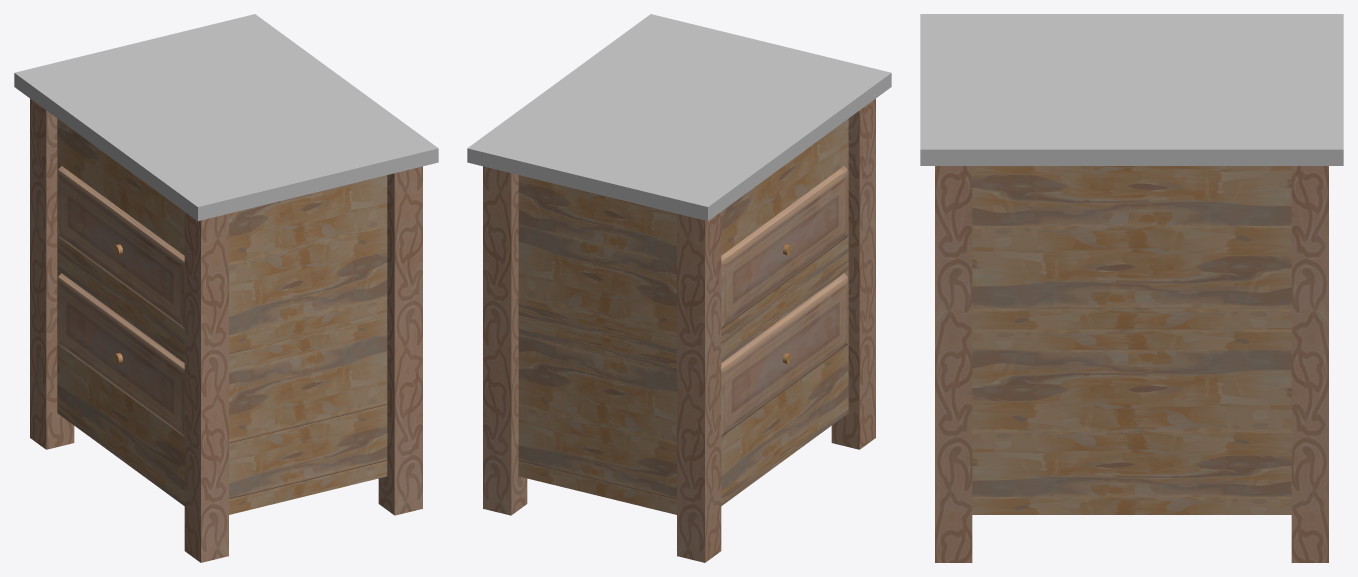
File: Cabinet.fbx
3 renders of one model, left to right at view 1: azimuth 30°, elevation 25°; view 2: azimuth 150°, elevation 25°; view 3: azimuth 270°, elevation 25°, orthographic. The views are drawn at different scales.
Visible parts, largest first — view 1: Nightstand_mesh; view 2: Nightstand_mesh; view 3: Nightstand_mesh.
Part boxes in pixels (x1,y1,x2,y2): Nightstand_mesh: [14, 14, 438, 562]; Nightstand_mesh: [467, 14, 891, 562]; Nightstand_mesh: [920, 14, 1343, 562].
Size of the model in its own units: 49.7 by 71.52 by 65.59.
